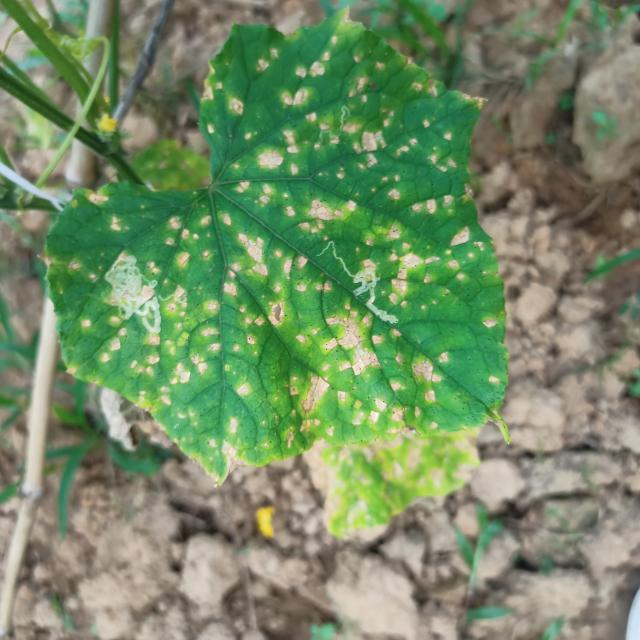disease_cucumber: (75, 42, 481, 450)
